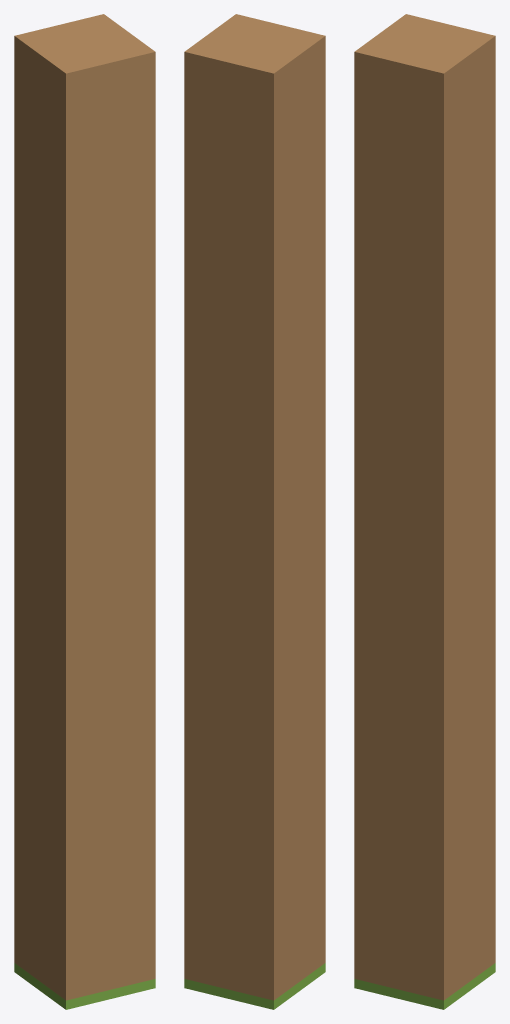
The model's file is SandBlock.fbx.
3 renders of one model, left to right at view 1: azimuth 30°, elevation 25°; view 2: azimuth 150°, elevation 25°; view 3: azimuth 330°, elevation 25°, orthographic.
Parts seen in each view (by area): view 1: SandBlock; view 2: SandBlock; view 3: SandBlock.
Boxes of the visible parts, <box> form: SandBlock: <box>14,14,155,1009</box>; SandBlock: <box>184,14,325,1009</box>; SandBlock: <box>354,14,495,1009</box>.
Size of the model in its own units: 100 by 1000 by 100.
